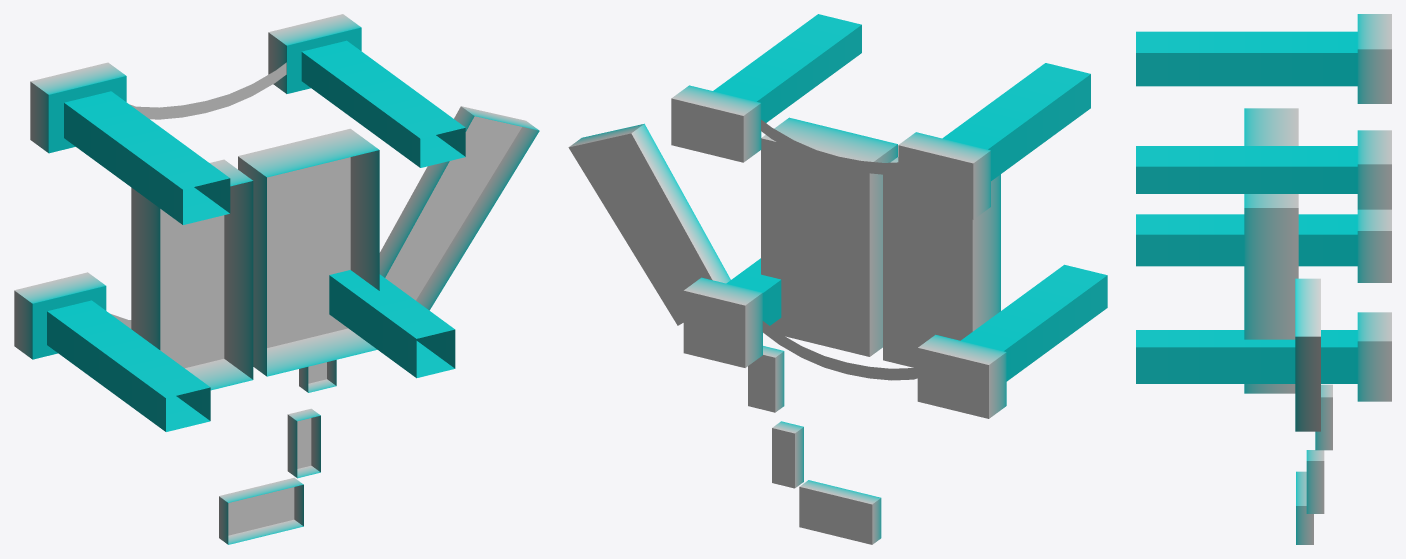
Rendered from scene1_wood.FBX.
3 views of the same model, side by side, from view 1: azimuth 30°, elevation 25°; view 2: azimuth 150°, elevation 25°; view 3: azimuth 270°, elevation 25° (orthographic). The views are drawn at different scales.
Visible parts, largest first — view 1: scene1_wood; view 2: scene1_wood; view 3: scene1_wood.
Boxes of the visible parts, left/top/right/bottom form: scene1_wood: left=14, top=14, right=539, bottom=544; scene1_wood: left=568, top=14, right=1107, bottom=544; scene1_wood: left=1136, top=14, right=1391, bottom=544.
Size of the model in its own units: 145 by 135 by 72.69.
